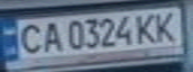0: (63, 17, 84, 51)
2: (97, 15, 118, 48)
3: (81, 16, 103, 50)
4: (115, 12, 136, 47)
A: (36, 19, 66, 53)
C: (12, 20, 45, 55)
K: (151, 8, 181, 43), (133, 10, 163, 44)
